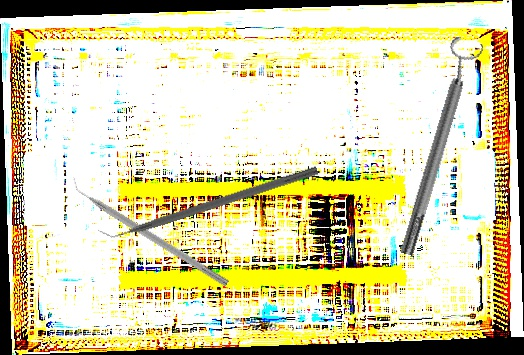Chopper: (96, 154, 319, 245), (66, 172, 235, 288)
Fixation Ring: (387, 35, 488, 259)
